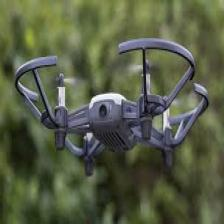drone: (16, 37, 210, 164)
